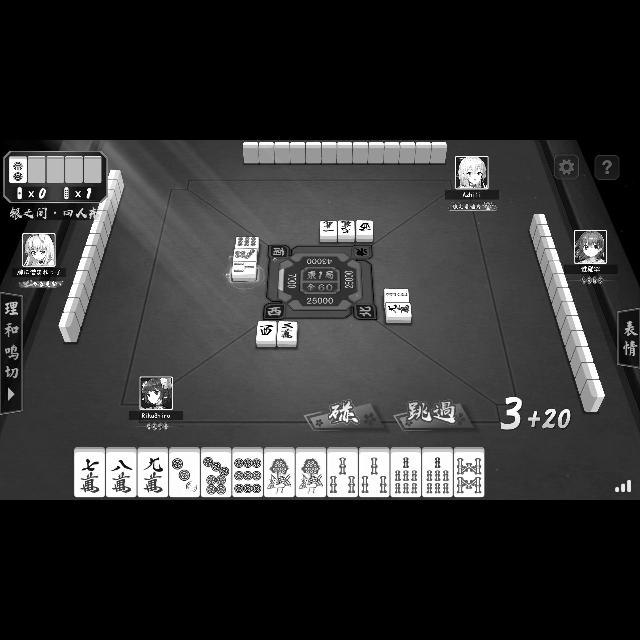1m: (320, 220, 338, 242)
1s: (296, 447, 328, 497), (265, 448, 295, 497)
2p: (10, 156, 26, 182)
2s: (383, 288, 409, 302)
3m: (278, 322, 298, 346)
3p: (170, 447, 200, 497)
3s: (328, 447, 358, 497), (360, 448, 390, 497), (232, 262, 258, 280)
7m: (74, 448, 106, 497)
7p: (200, 448, 232, 497), (234, 249, 256, 261)
7s: (422, 448, 453, 497), (391, 447, 421, 497)
8m: (106, 448, 138, 497)
8s: (454, 448, 484, 497)
9m: (138, 447, 168, 497), (386, 303, 412, 323), (338, 220, 354, 242)
9p: (233, 447, 263, 497), (235, 238, 259, 248)
sha: (256, 322, 276, 346), (356, 220, 374, 242)
